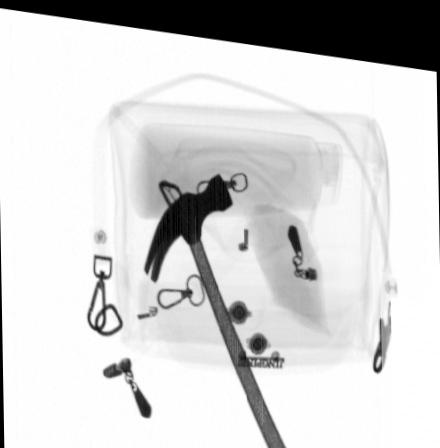Hammer: (141, 165, 290, 448)
